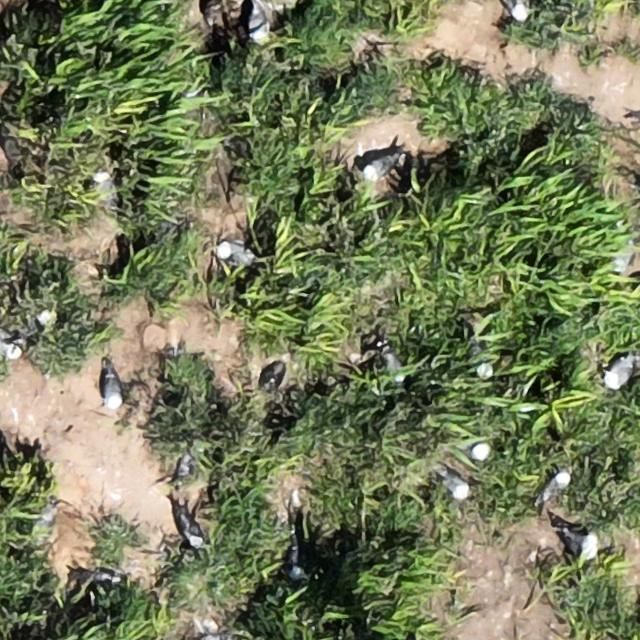umineko: (560, 524, 600, 558), (177, 508, 209, 549), (380, 340, 406, 383), (93, 173, 118, 214), (605, 357, 634, 387), (541, 471, 568, 500), (216, 240, 249, 262), (363, 156, 393, 179), (442, 473, 468, 499), (105, 374, 124, 407), (247, 5, 265, 38), (505, 1, 527, 22), (468, 443, 488, 461), (0, 339, 18, 359)
